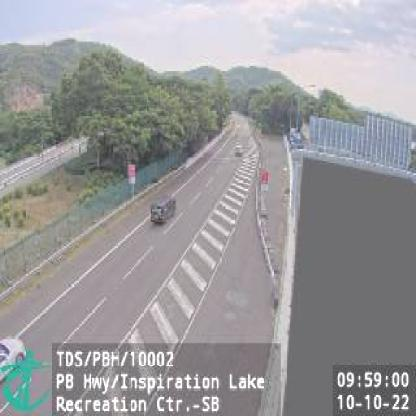Car: (0, 329, 32, 388), (149, 193, 179, 226), (233, 142, 245, 158)
